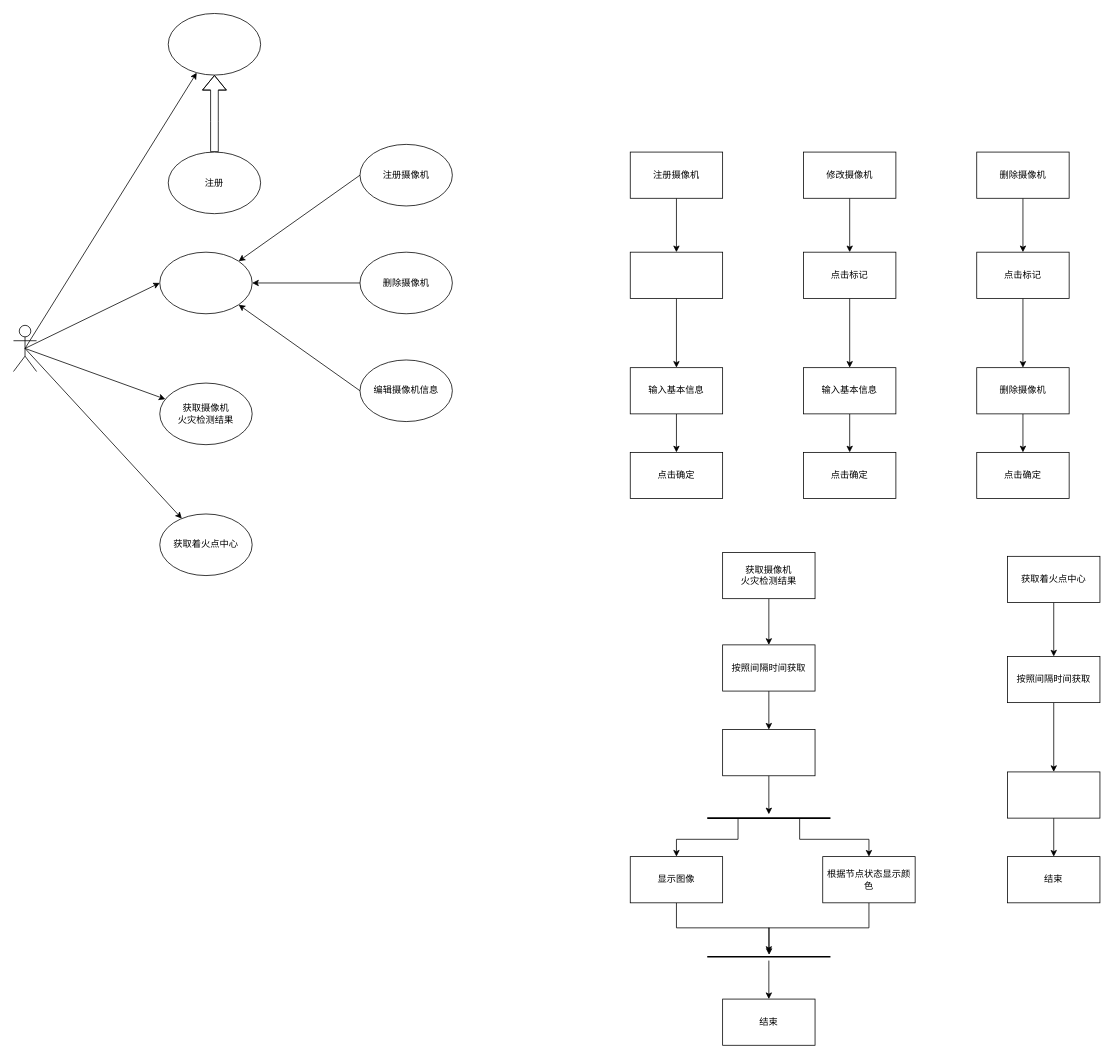
Image size: 1113x1059. Some labels were removed from this diagram. Each missing label, with the box of its shape:
Actor: (13, 325, 37, 372)
显示火灾中心点: (1007, 771, 1100, 818)
点击界面: (629, 251, 723, 298)
登录: (167, 13, 261, 75)
编辑摄像机: (159, 251, 252, 314)
获取节点当前状态和图像: (722, 729, 815, 776)
